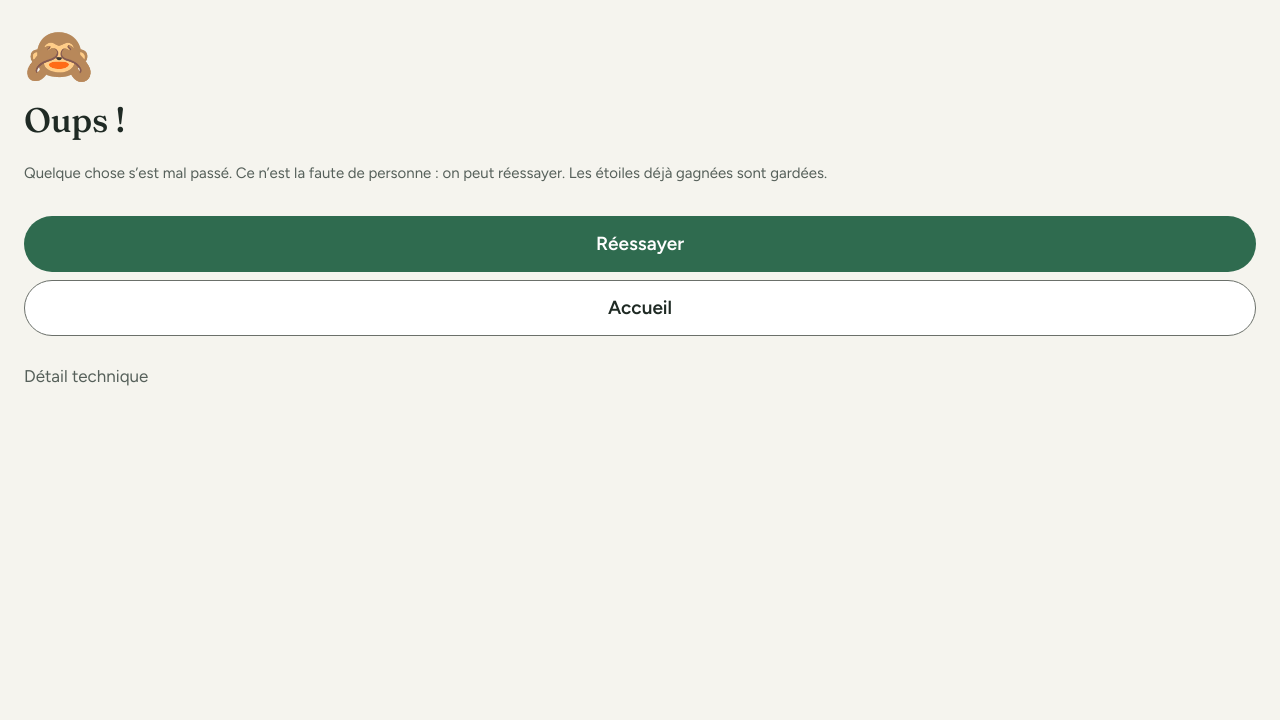
Écran « Oups » › copie le détail technique dans le presse-papiers
Click the heading "Détail technique" at [86, 376], box x1=24 y1=366 x2=148 y2=386
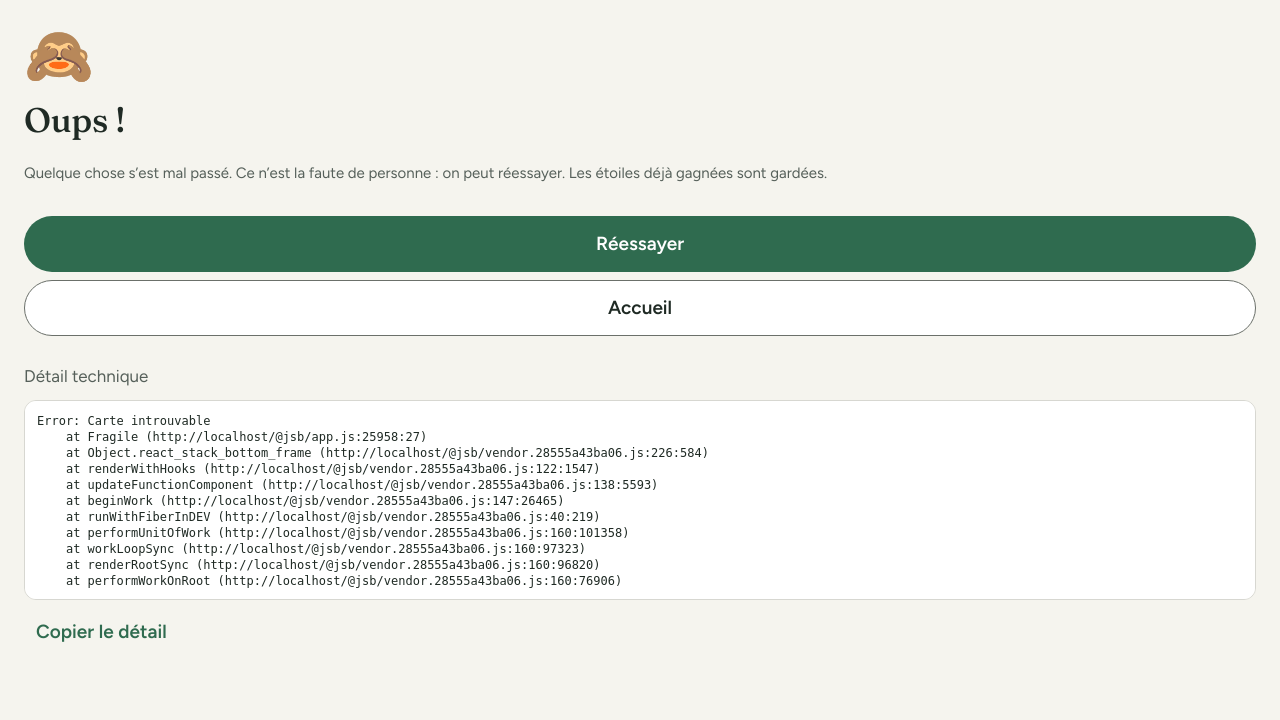
Click the button "Copier le détail" at [101, 632], box x1=24 y1=608 x2=179 y2=656
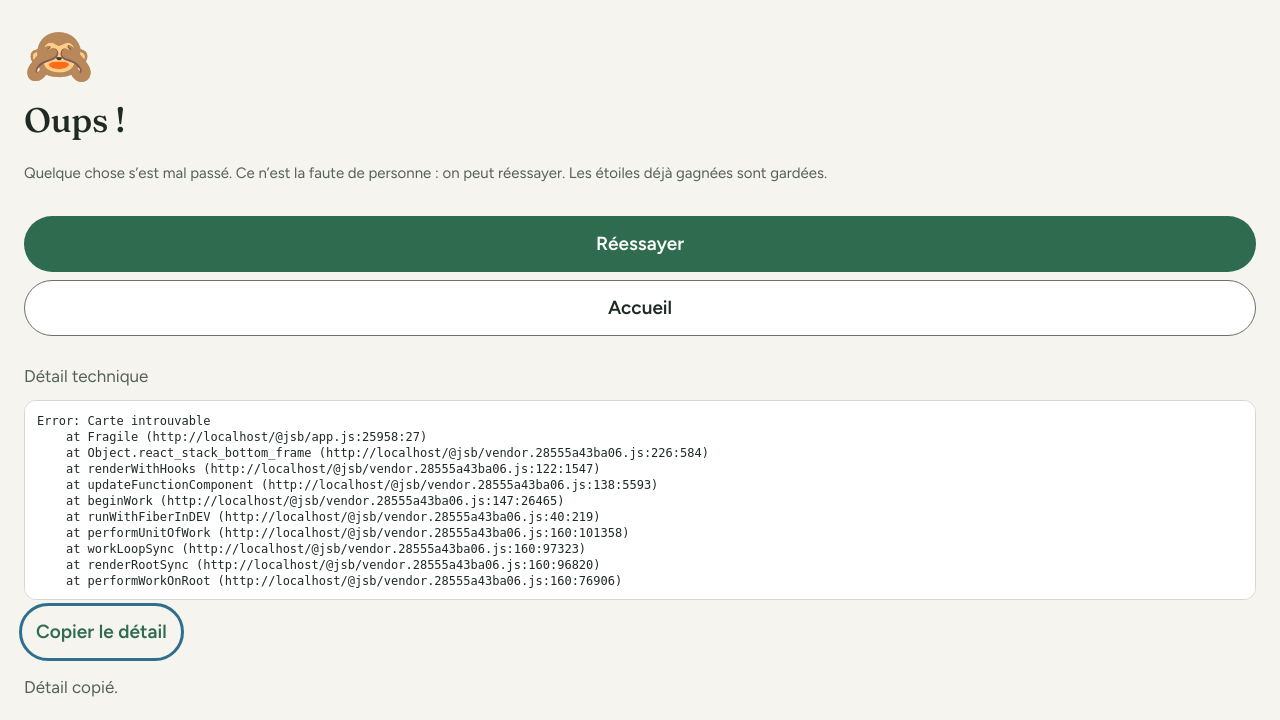
expect the text "Détail copié." is shown: met, box x1=24 y1=677 x2=118 y2=697
